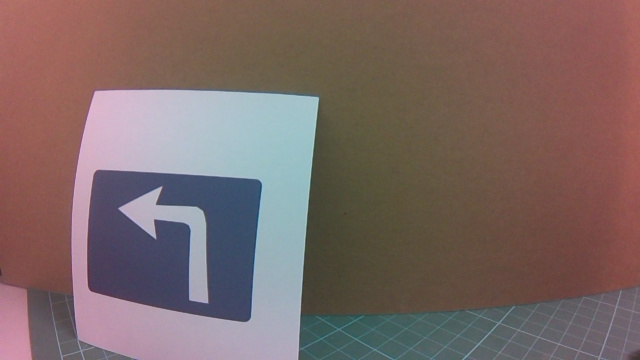left: (83, 149, 258, 320)
